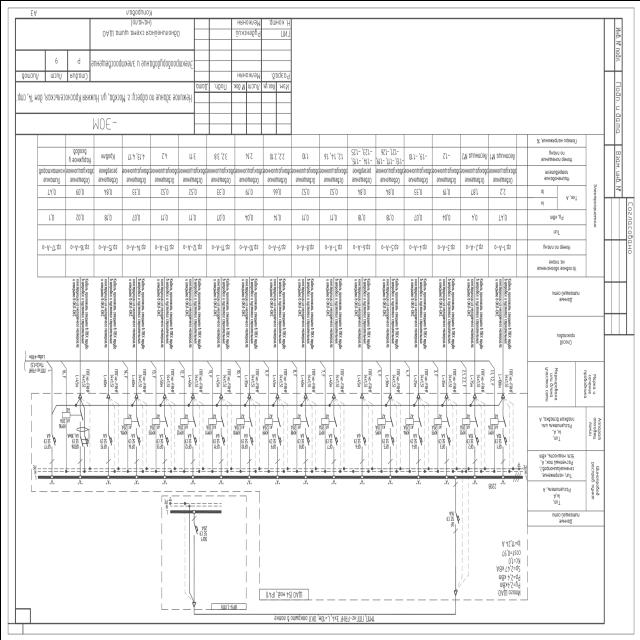-: (264, 588, 302, 598), (444, 509, 454, 522), (66, 432, 78, 442), (41, 433, 50, 443), (268, 433, 276, 443), (212, 432, 220, 442), (324, 432, 332, 442), (296, 433, 304, 443), (183, 432, 191, 442), (436, 432, 444, 442), (126, 433, 134, 443), (465, 432, 473, 442), (380, 432, 388, 442), (240, 433, 248, 443), (352, 433, 360, 443), (493, 433, 501, 443), (98, 433, 106, 443), (408, 432, 416, 442), (155, 432, 163, 442), (176, 422, 184, 430), (232, 422, 240, 430), (288, 422, 296, 430), (429, 422, 436, 430), (148, 422, 155, 430), (458, 422, 465, 430), (401, 422, 408, 430), (204, 422, 211, 430), (261, 422, 268, 430), (373, 422, 380, 430), (317, 422, 324, 429), (120, 422, 126, 430), (58, 416, 64, 424), (487, 424, 492, 429)
KM: (60, 406, 83, 423), (234, 412, 252, 430), (178, 412, 196, 430), (150, 412, 168, 430), (404, 414, 422, 431), (264, 414, 282, 431), (376, 413, 394, 430), (320, 414, 338, 431), (460, 413, 478, 430), (122, 412, 139, 430), (432, 414, 450, 431), (488, 415, 506, 432), (291, 413, 309, 430), (207, 412, 224, 429)
QF: (245, 431, 253, 464), (217, 431, 225, 464), (189, 431, 197, 464), (161, 431, 169, 464), (133, 431, 141, 464), (105, 430, 113, 463), (48, 431, 56, 464), (274, 431, 282, 464), (302, 431, 310, 464), (330, 431, 338, 464), (358, 431, 366, 464), (415, 431, 423, 464), (444, 431, 452, 464), (499, 431, 507, 464), (471, 434, 479, 466), (386, 432, 394, 464), (452, 508, 460, 534)
QFD: (75, 425, 89, 464)
